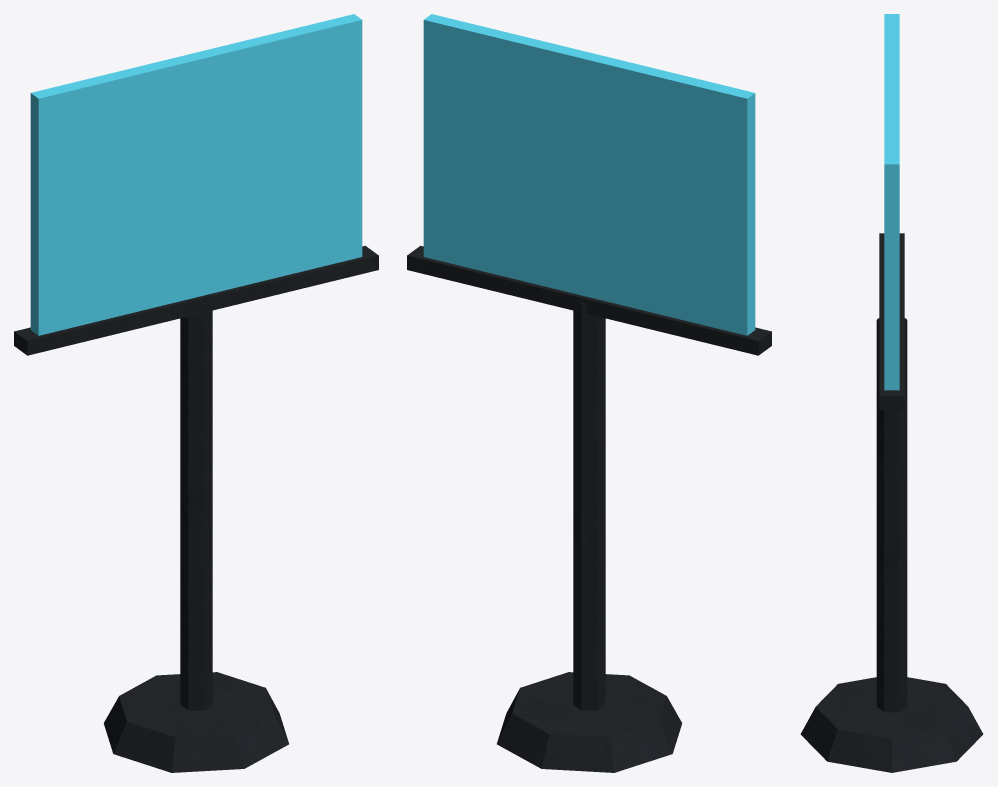
File: holo_panel_01.glb
The picture shows the model from 3 angles, left to right: view 1: azimuth 30°, elevation 25°; view 2: azimuth 150°, elevation 25°; view 3: azimuth 270°, elevation 25°; orthographic projection. The views are drawn at different scales.
Parts seen in each view (by area): view 1: holo_panel_01; view 2: holo_panel_01; view 3: holo_panel_01.
Boxes of the visible parts, x1,y1,x2,y2 form: holo_panel_01: [14, 14, 378, 772]; holo_panel_01: [407, 14, 771, 772]; holo_panel_01: [800, 14, 983, 772].
Size of the model in its own units: 0.76 by 1.4 by 0.36.
Materials: 2 (2 with a texture image).
